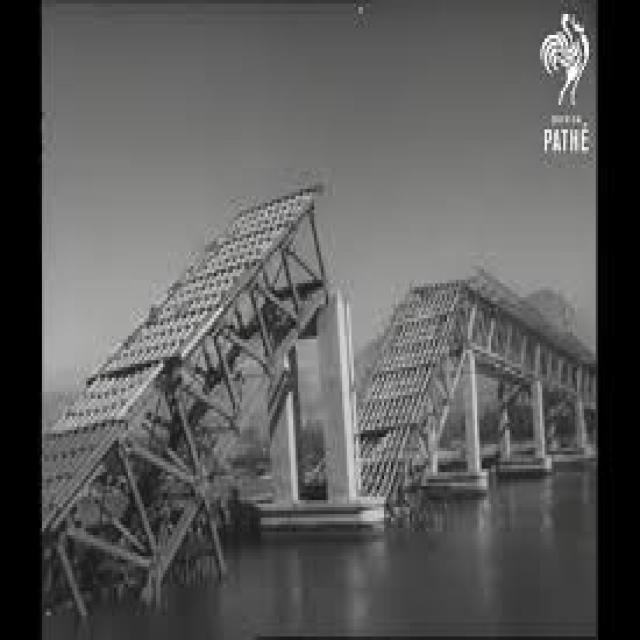bridge collapse: (141, 111, 593, 563)
